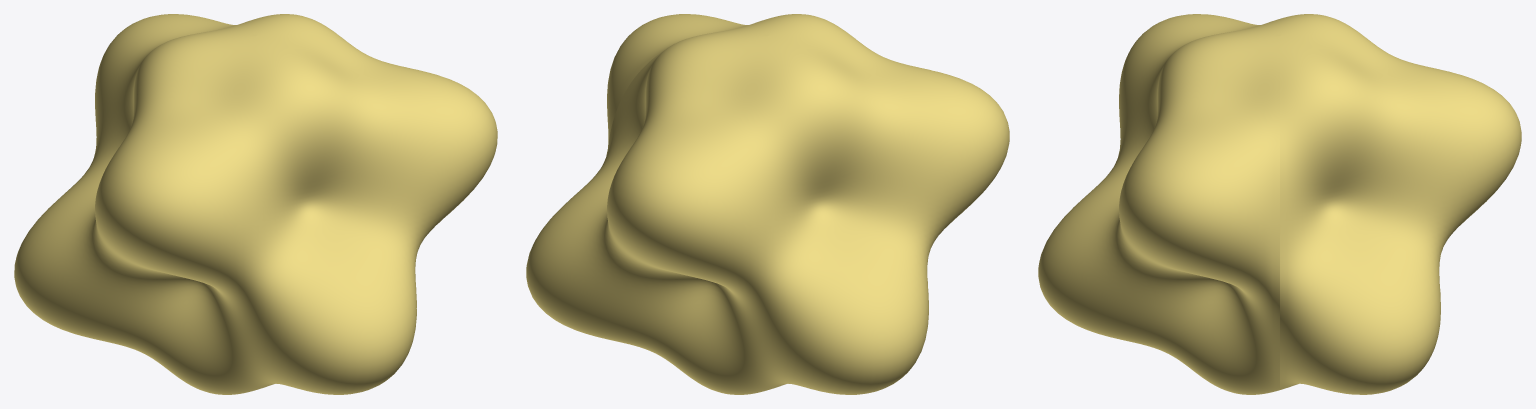
The model's file is ex_harmonic.glb.
The picture shows the model from 3 angles, left to right: view 1: azimuth 30°, elevation 25°; view 2: azimuth 150°, elevation 25°; view 3: azimuth 270°, elevation 25°; orthographic projection.
Parts seen in each view (by area): view 1: Harmonic; view 2: Harmonic; view 3: Harmonic.
Boxes of the visible parts, left/top/right/bottom form: Harmonic: left=14, top=14, right=497, bottom=394; Harmonic: left=526, top=14, right=1009, bottom=394; Harmonic: left=1038, top=14, right=1521, bottom=394.
Bounding box in the file's own units: 2.36 × 2 × 2.6.
